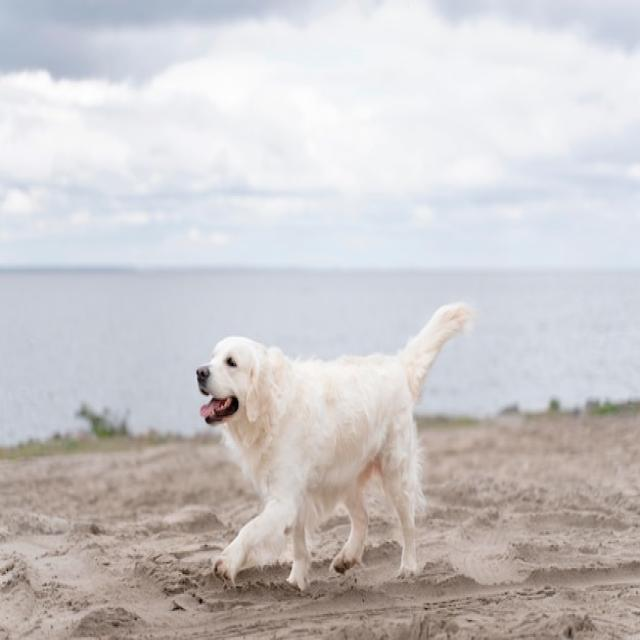Dog: (197, 298, 474, 588)
